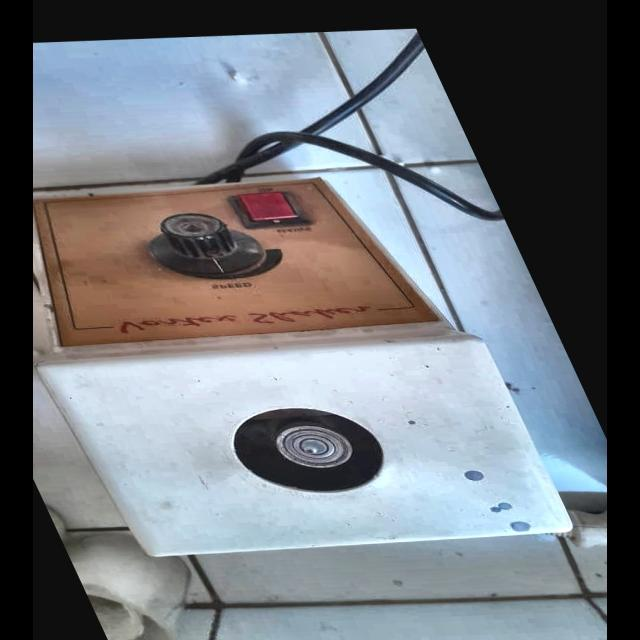Vortex: (33, 170, 579, 562)
